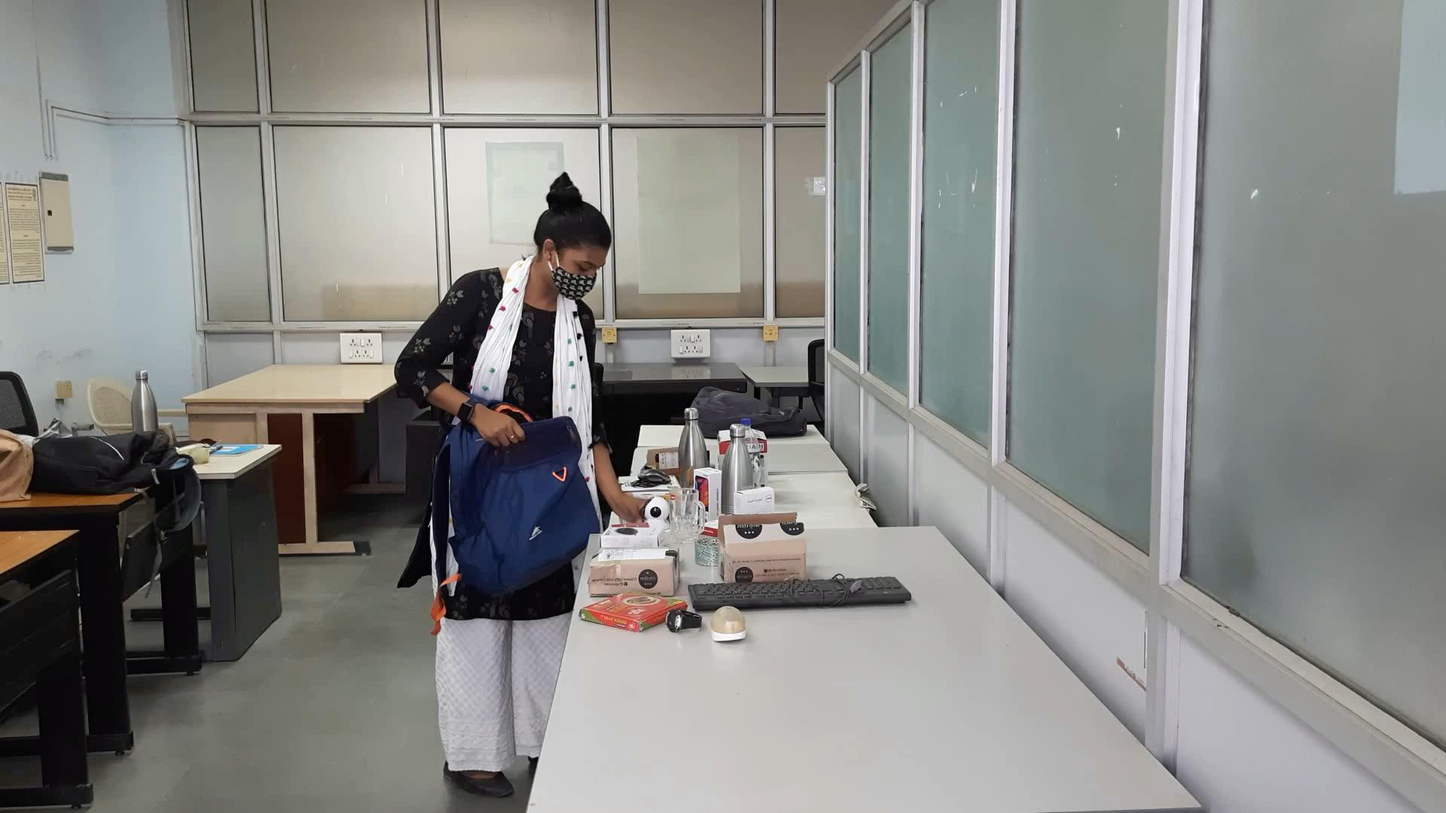shoplifting: (342, 352, 826, 639)
